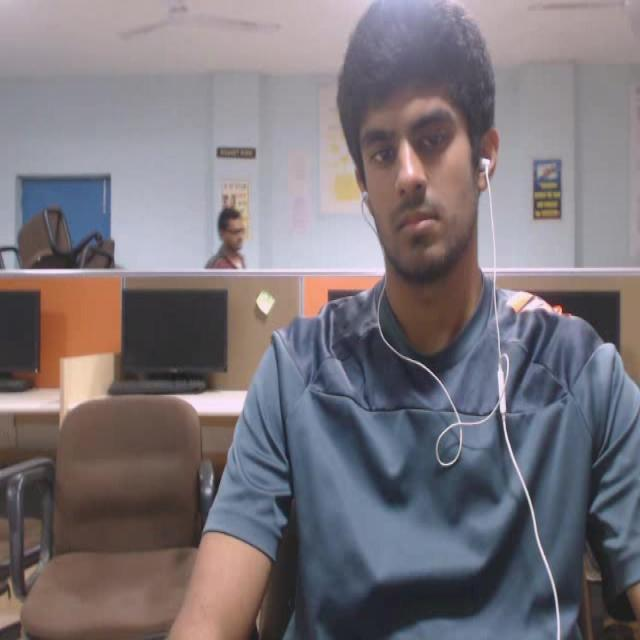Bored: (317, 0, 537, 312)
